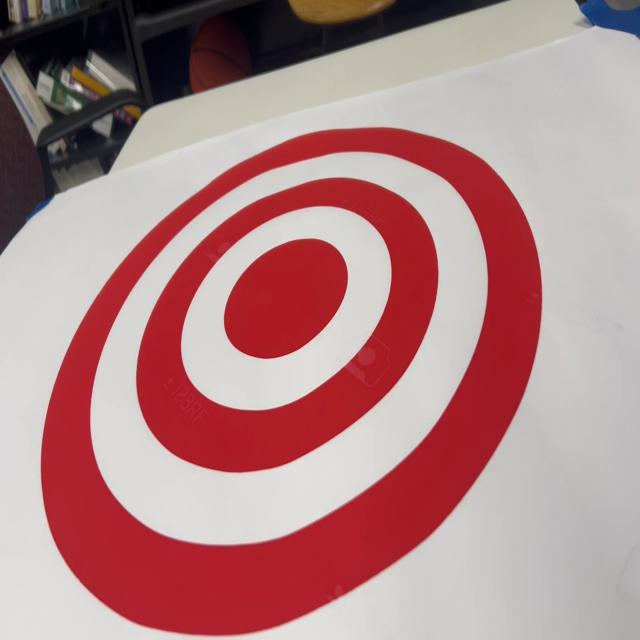target_red: (33, 117, 560, 640)
